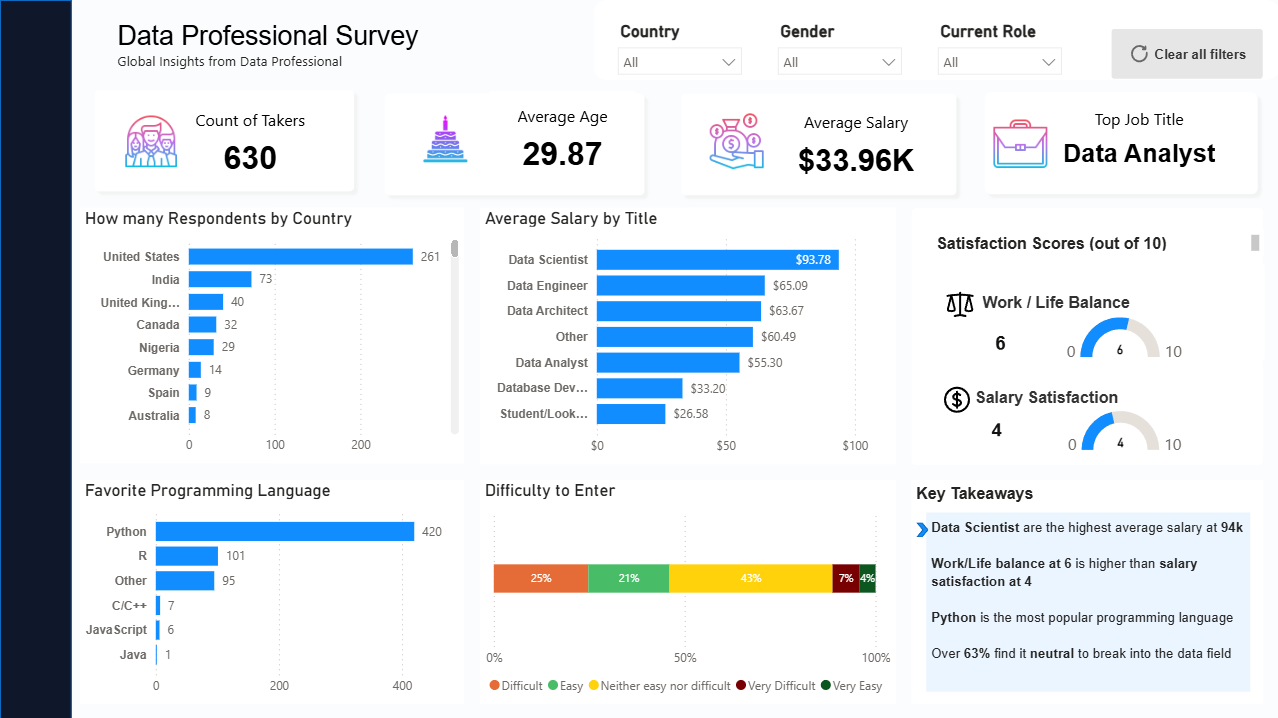

Layout of this report page (visuals, bound fields, positions):
{"tool":"powerbi","page":{"name":"Practice","canvas":[1280,720],"ordinal":0},"visuals":[{"type":"shape","box":[88,81.9,273.9,116.2],"z":0},{"type":"shape","box":[594.3,0,685.7,80],"z":1000},{"type":"shape","box":[1111.6,29.3,151.6,50.1],"z":2000},{"type":"shape","box":[123.5,113.7,56.3,57.5],"z":3000},{"type":"shape","box":[403.3,106.2,84.7,66],"z":4000},{"type":"shape","box":[673.2,86.1,289.9,116.3],"z":5000},{"type":"shape","box":[377.5,86.1,274.1,116.3],"z":6000},{"type":"textbox","box":[112,16,432,64],"z":7000},{"type":"cardVisual","fields":{"Data":["Sum(Data Professional Survey.Average Salary)"]},"box":[752,96,208,96],"z":8000},{"type":"cardVisual","fields":{"Data":["CountNonNull(Data Professional Survey.Unique ID)"]},"box":[161.4,95.7,178.6,92.9],"z":9000},{"type":"cardVisual","fields":{"Data":["Avg(Data Professional Survey.Q10 - Current Age)"]},"box":[485.1,86.1,155,104.8],"z":10000},{"type":"shape","box":[0,0,71.8,720.5],"z":11000},{"type":"shape","box":[977.2,85.5,287.4,116.4],"z":12000},{"type":"clusteredBarChart","title":"How many Respondents by Country","fields":{"Category":["Data Professional Survey.Q11 - Which Country do you live in?"],"Y":["CountNonNull(Data Professional Survey.Unique ID)"]},"box":[80,208,384,256],"z":13000},{"type":"clusteredBarChart","title":"Average Salary by Title","fields":{"Category":["Data Professional Survey.Q1 - Which Title Best Fits your Current Role?.1"],"Y":["Avg(Data Professional Survey.Average Salary)"]},"box":[479.5,207.5,416.4,256.6],"z":14000},{"type":"shape","box":[911.3,207.5,351.9,258],"z":15000},{"type":"shape","box":[922.5,265,342.1,95.3],"z":16000},{"type":"shape","box":[922.5,367.3,340.7,84.1],"z":17000},{"type":"cardVisual","fields":{"Data":["Avg(Data Professional Survey.Q6 - How Happy are you in your Current Position with the following? (Salary))"]},"box":[962.4,406,72.1,47.7],"z":18000},{"type":"textbox","box":[977.2,288.8,175.2,30.8],"z":19000},{"type":"textbox","box":[970.2,384.1,190.7,32.2],"z":20000},{"type":"barChart","title":"Favorite Programming Language","fields":{"Category":["Data Professional Survey.Q5 - Favorite Programming Language.1"],"Y":["CountNonNull(Data Professional Survey.Unique ID)"]},"box":[80,480,384,224],"z":21000},{"type":"hundredPercentStackedBarChart","title":"Difficulty  to Enter","fields":{"Y":["CountNonNull(Data Professional Survey.Unique ID)"],"Series":["Data Professional Survey.Q7 - How difficult was it for you to break into Data?"]},"box":[480.6,480.6,415.8,223.8],"z":22000},{"type":"slicer","fields":{"Values":["Data Professional Survey.Q11 - Which Country do you live in?"]},"box":[608,16,144,64],"z":23000},{"type":"slicer","fields":{"Values":["Data Professional Survey.Q9 - Male/Female?"]},"box":[768,16,144,64],"z":24000},{"type":"slicer","fields":{"Values":["Data Professional Survey.Q1 - Which Title Best Fits your Current Role?.1"]},"box":[928,16,144,64],"z":25000},{"type":"actionButton","box":[1136,42.8,128.4,24.5],"z":26000},{"type":"image","box":[1115.2,42.8,48.9,22],"z":27000},{"type":"cardVisual","fields":{"Data":["Data Professional Survey.Top Job Title"]},"box":[1029,91.1,221.5,93.9],"z":28000},{"type":"textbox","box":[931.4,230,332.9,25.7],"z":29000},{"type":"image","box":[912.7,288.8,95.3,30.8],"z":30000},{"type":"image","box":[925.3,384.1,64.5,32.2],"z":31000},{"type":"textbox","box":[911.3,479.5,351.9,224.3],"z":32000},{"type":"textbox","box":[926.7,513.1,323.9,179.5],"z":33000},{"type":"gauge","fields":{"Y":["Avg(Data Professional Survey.Q6 - How Happy are you in your Current Position with the following? (Work/Life Balance))"]},"box":[1008,312.6,234.1,54.7],"z":34000},{"type":"cardVisual","fields":{"Data":["Avg(Data Professional Survey.Q6 - How Happy are you in your Current Position with the following? (Work/Life Balance))"]},"box":[957.5,319.2,86.8,48.9],"z":35000},{"type":"image","box":[118.6,113.7,64.8,55],"z":36000},{"type":"gauge","fields":{"Y":["Avg(Data Professional Survey.Q6 - How Happy are you in your Current Position with the following? (Salary))"]},"box":[1007.6,406,234.8,53.8],"z":37000},{"type":"image","box":[706.8,112.5,61.1,57.5],"z":38000},{"type":"image","box":[990.5,114.9,61.1,57.5],"z":39000},{"type":"image","box":[414.5,110.1,61.1,57.5],"z":40000},{"type":"shape","box":[915.9,522.1,12.2,14.7],"z":41000}]}

Visuals, with their boxes in screenshot pixels (x1, y1, x2, y2), scaled from the page's 1280x720 canvas onto the 1278x718 screenshot:
shape: select_region(88, 82, 361, 198)
shape: select_region(593, 0, 1277, 80)
shape: select_region(1110, 29, 1261, 79)
shape: select_region(123, 113, 180, 171)
shape: select_region(403, 106, 487, 172)
shape: select_region(672, 86, 962, 202)
shape: select_region(377, 86, 651, 202)
textbox: select_region(112, 16, 543, 80)
cardVisual - Sum(Data Professional Survey.Average Salary): select_region(751, 96, 958, 191)
cardVisual - CountNonNull(Data Professional Survey.Unique ID): select_region(161, 95, 339, 188)
cardVisual - Avg(Data Professional Survey.Q10 - Current Age): select_region(484, 86, 639, 190)
shape: select_region(0, 0, 72, 717)
shape: select_region(976, 85, 1263, 201)
"How many Respondents by Country" clusteredBarChart: select_region(80, 207, 463, 463)
"Average Salary by Title" clusteredBarChart: select_region(479, 207, 895, 463)
shape: select_region(910, 207, 1261, 464)
shape: select_region(921, 264, 1263, 359)
shape: select_region(921, 366, 1261, 450)
cardVisual - Avg(Data Professional Survey.Q6 - How Happy are you in your Current Position with the following? (Salary)): select_region(961, 405, 1033, 452)
textbox: select_region(976, 288, 1151, 319)
textbox: select_region(969, 383, 1159, 415)
"Favorite Programming Language" barChart: select_region(80, 479, 463, 702)
"Difficulty  to Enter" hundredPercentStackedBarChart: select_region(480, 479, 895, 702)
slicer - Data Professional Survey.Q11 - Which Country do you live in?: select_region(607, 16, 751, 80)
slicer - Data Professional Survey.Q9 - Male/Female?: select_region(767, 16, 911, 80)
slicer - Data Professional Survey.Q1 - Which Title Best Fits your Current Role?.1: select_region(927, 16, 1070, 80)
actionButton: select_region(1134, 43, 1262, 67)
image: select_region(1113, 43, 1162, 65)
cardVisual - Data Professional Survey.Top Job Title: select_region(1027, 91, 1249, 184)
textbox: select_region(930, 229, 1262, 255)
image: select_region(911, 288, 1006, 319)
image: select_region(924, 383, 988, 415)
textbox: select_region(910, 478, 1261, 702)
textbox: select_region(925, 512, 1249, 691)
gauge - Avg(Data Professional Survey.Q6 - How Happy are you in your Current Position with the following? (Work/Life Balance)): select_region(1006, 312, 1240, 366)
cardVisual - Avg(Data Professional Survey.Q6 - How Happy are you in your Current Position with the following? (Work/Life Balance)): select_region(956, 318, 1043, 367)
image: select_region(118, 113, 183, 168)
gauge - Avg(Data Professional Survey.Q6 - How Happy are you in your Current Position with the following? (Salary)): select_region(1006, 405, 1240, 459)
image: select_region(706, 112, 767, 170)
image: select_region(989, 115, 1050, 172)
image: select_region(414, 110, 475, 167)
shape: select_region(914, 521, 927, 535)
